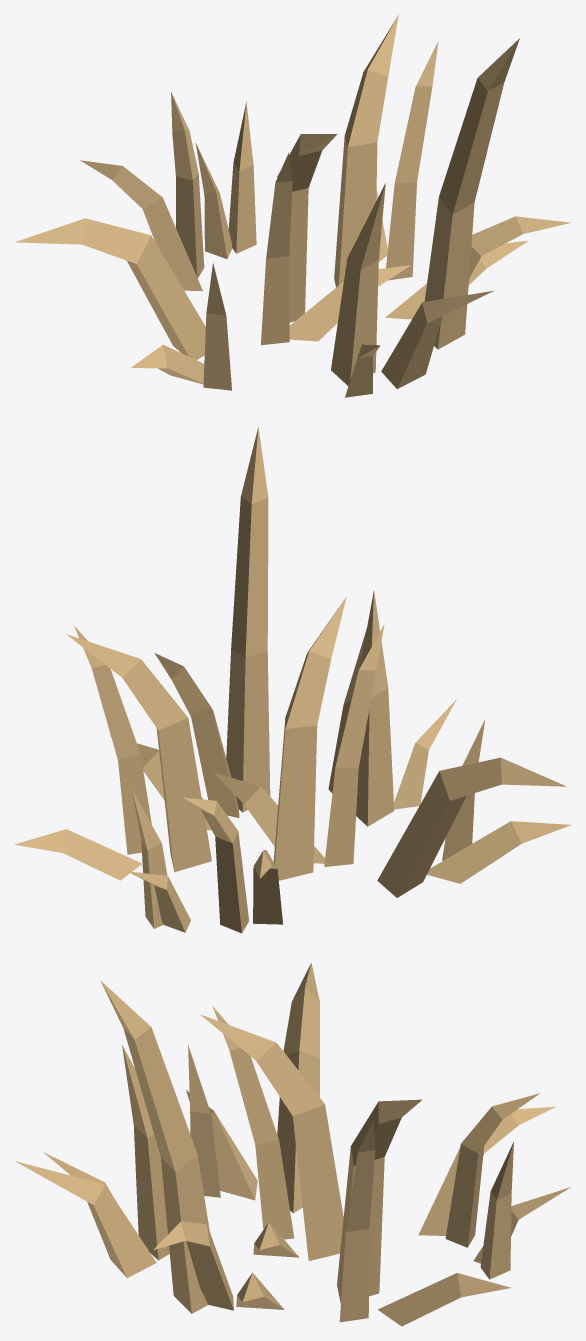
The model's file is Mega_Asset_s_Pack_Cylinder_014.FBX.
3 renders of one model, top to bottom at view 1: azimuth 30°, elevation 25°; view 2: azimuth 150°, elevation 25°; view 3: azimuth 270°, elevation 25°, orthographic. The views are drawn at different scales.
Parts seen in each view (by area): view 1: Mega_Asset_s_Pack_Cylinder_014; view 2: Mega_Asset_s_Pack_Cylinder_014; view 3: Mega_Asset_s_Pack_Cylinder_014.
Part boxes in pixels (<box>): Mega_Asset_s_Pack_Cylinder_014: <box>15,15,571,397</box>; Mega_Asset_s_Pack_Cylinder_014: <box>15,426,571,933</box>; Mega_Asset_s_Pack_Cylinder_014: <box>15,963,570,1326</box>.
Size of what is drawn, in the model's own units: 152 by 147 by 98.35.
